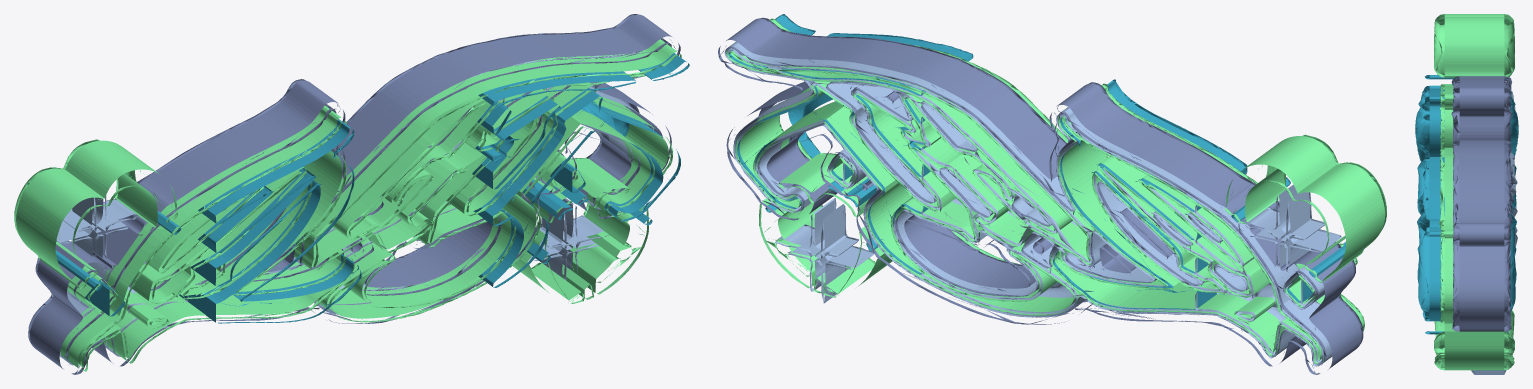
File: plush.glb
3 renders of one model, left to right at view 1: azimuth 30°, elevation 25°; view 2: azimuth 150°, elevation 25°; view 3: azimuth 270°, elevation 25°, orthographic. The views are drawn at different scales.
Visible parts, largest first — view 1: layer-2, layer-1, layer-3, layer-0; view 2: layer-2, layer-1, layer-0, layer-3; view 3: layer-1, layer-2, layer-3, layer-0.
Part boxes in pixels (box(x1,y1,x2,y2)): layer-2: box(14, 39, 681, 371); layer-1: box(28, 14, 680, 374); layer-3: box(55, 53, 689, 323); layer-0: box(56, 38, 663, 359); layer-2: box(726, 18, 1386, 364); layer-1: box(718, 17, 1363, 374); layer-0: box(724, 41, 1341, 366); layer-3: box(728, 14, 1345, 309); layer-1: box(1451, 76, 1514, 331); layer-2: box(1434, 14, 1514, 370); layer-3: box(1415, 75, 1518, 334); layer-0: box(1471, 90, 1517, 374).
Bounding box in the file's own units: 0.9258 × 0.3633 × 0.1735.
